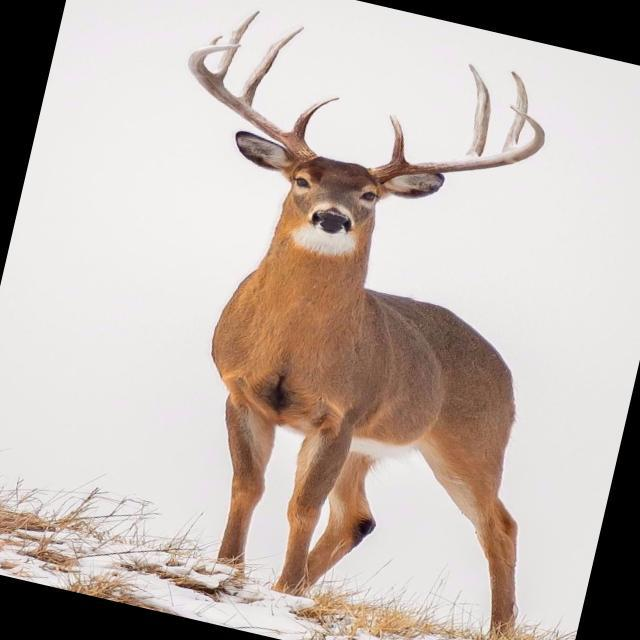E1: (209, 35, 221, 45)
L-F: (368, 104, 545, 184)
L-G1: (387, 113, 409, 164)
L-G2: (462, 63, 491, 158)
R-F: (187, 43, 316, 162)
R-G1: (286, 97, 340, 140)
R-G2: (237, 25, 304, 107)
